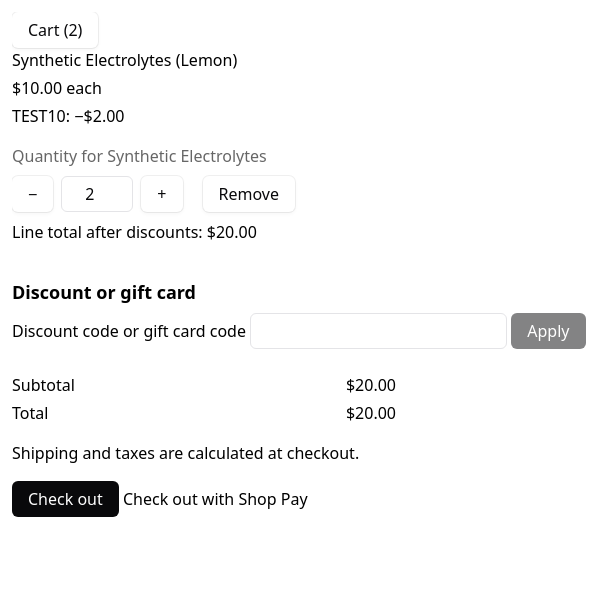
Test: cart › says why a code isn't applied
Expected: the button with aria-label "Cart, 2 items" is shown, [12,12,98,48]
Type "TEST5OFF" into the field labelled "Discount code or gift card code". click: (379, 331)
box: [250,313,507,349]
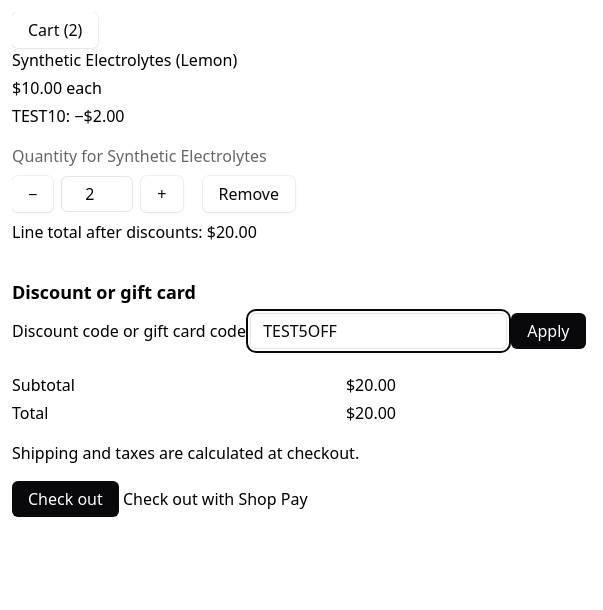
Click the button "Apply". click: (548, 331)
box: [511,313,586,349]
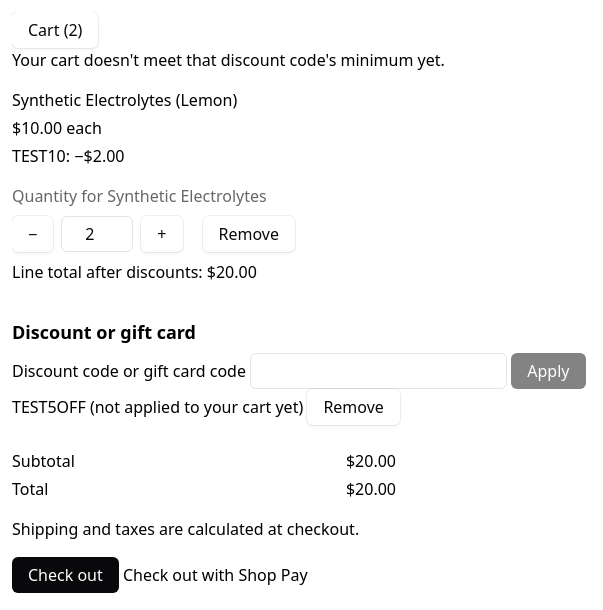
Expected: the message reads "Your cart doesn't meet that discount code's minimum yet.", [12,49,445,71]
Expected: the list item "TEST5OFF (not applied to your cart yet) Remove" is shown, [12,389,400,425]
